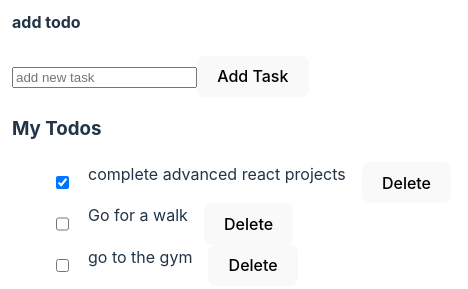
delete todos
Click the button "Delete" next to "complete advanced react projects".
click(406, 183)  # box [362, 162, 451, 203]
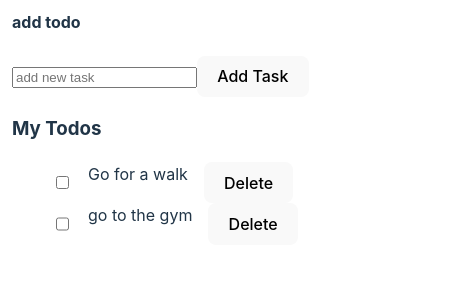
Result: the text "complete advanced react projects" is gone
